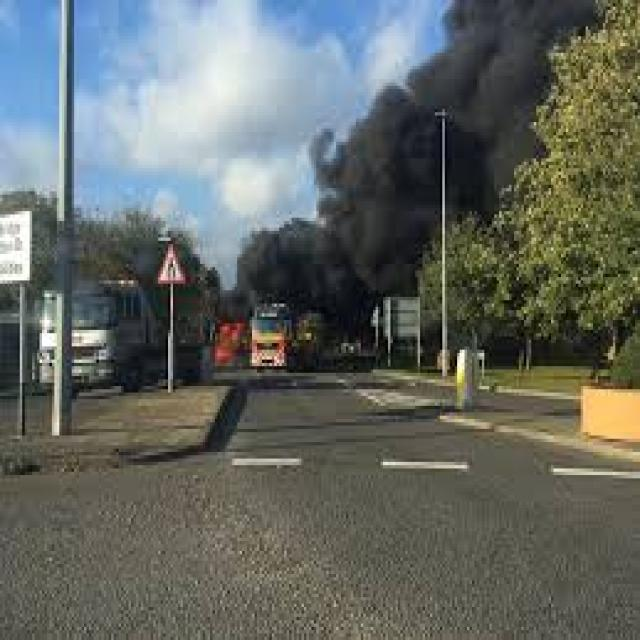Smoke: (222, 0, 595, 340)
